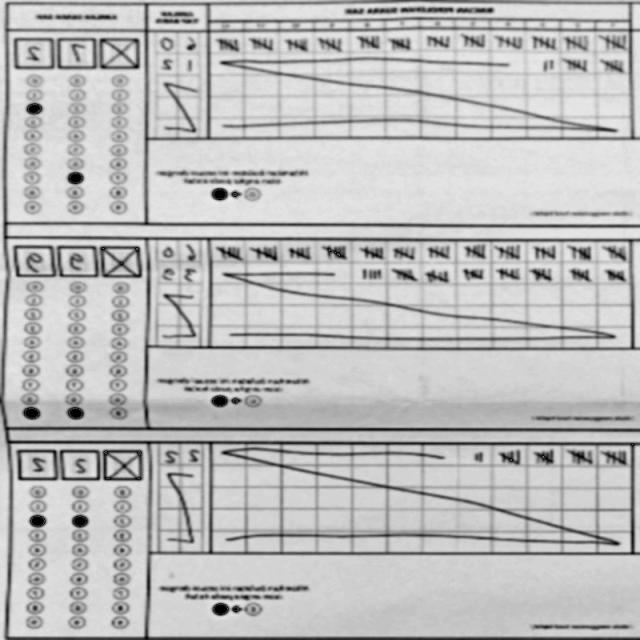Suara: (10, 34, 144, 70), (12, 242, 145, 278), (18, 446, 150, 482)
